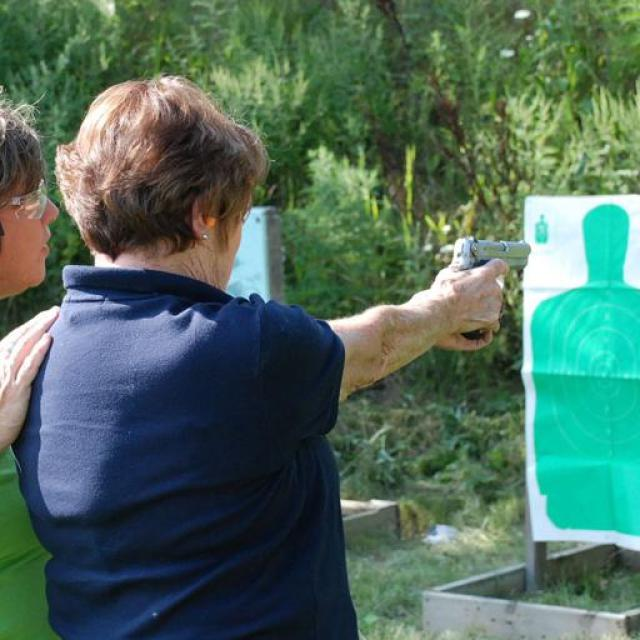pistol: (450, 239, 529, 339)
